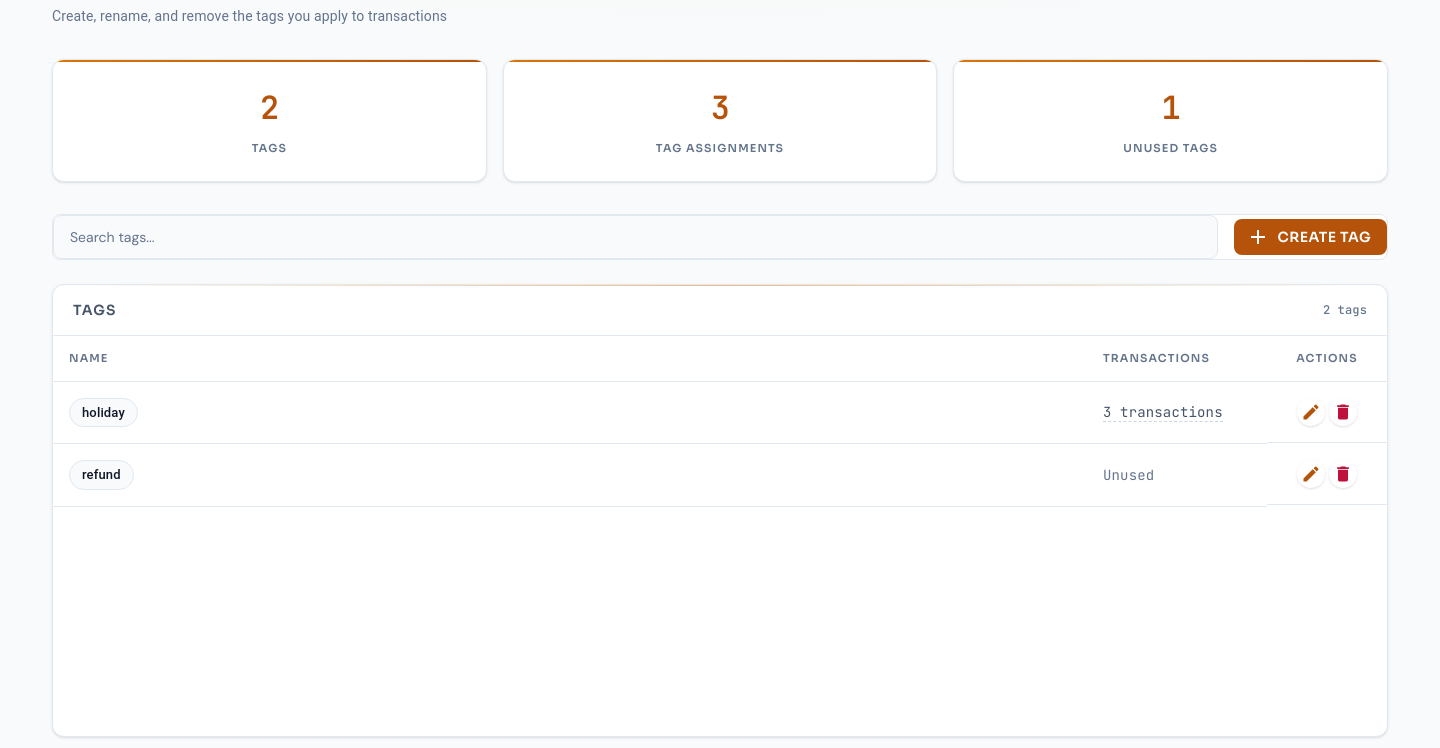
Test case: TagsPage › deleting a tag in use warns with the transaction count
Click the button titled "Delete tag" in the row of "holiday". click: (1343, 412)
box: x1=1329 y1=398 x2=1357 y2=426
(page scrolled)
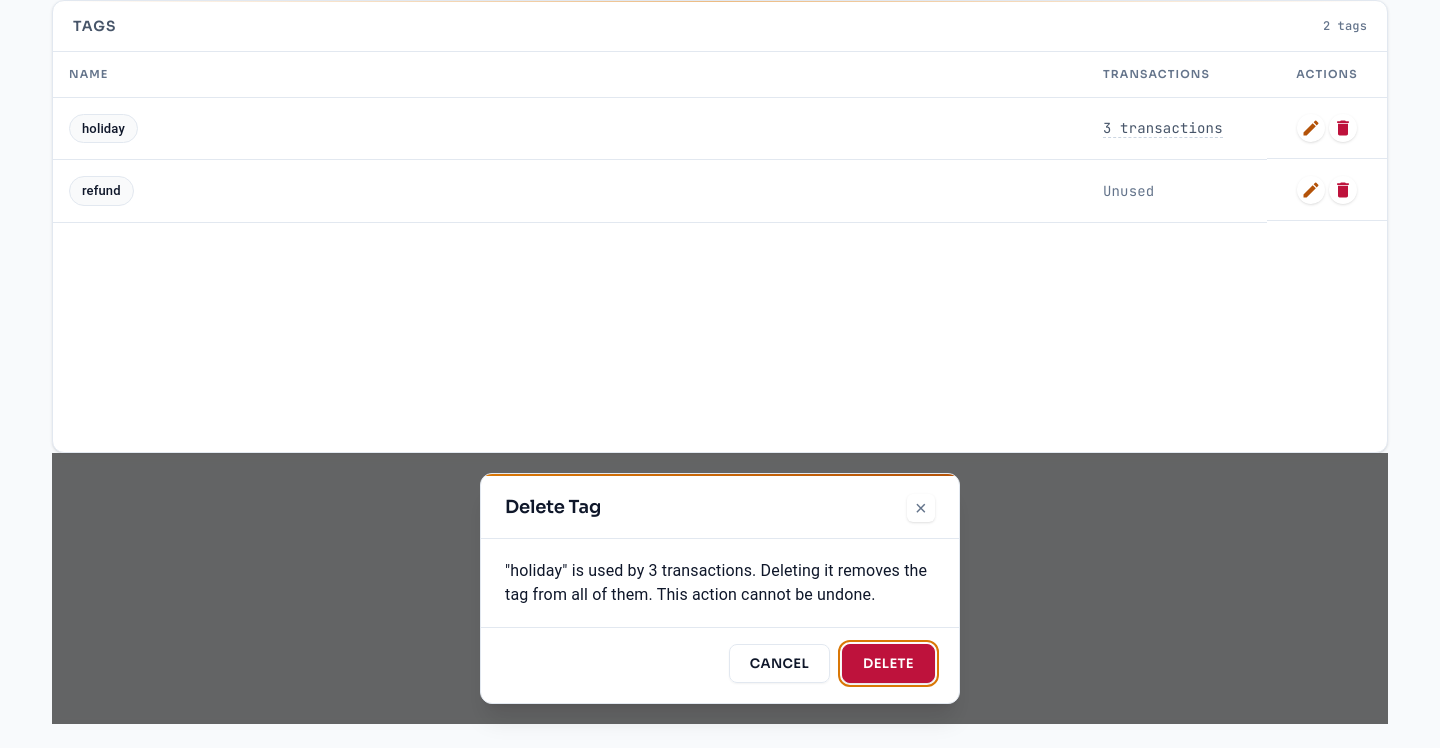
Now the text "is used by 3 transactions" is shown, box x1=505 y1=561 x2=927 y2=604
